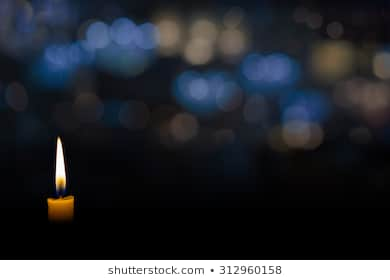Fire: (54, 136, 69, 194)
